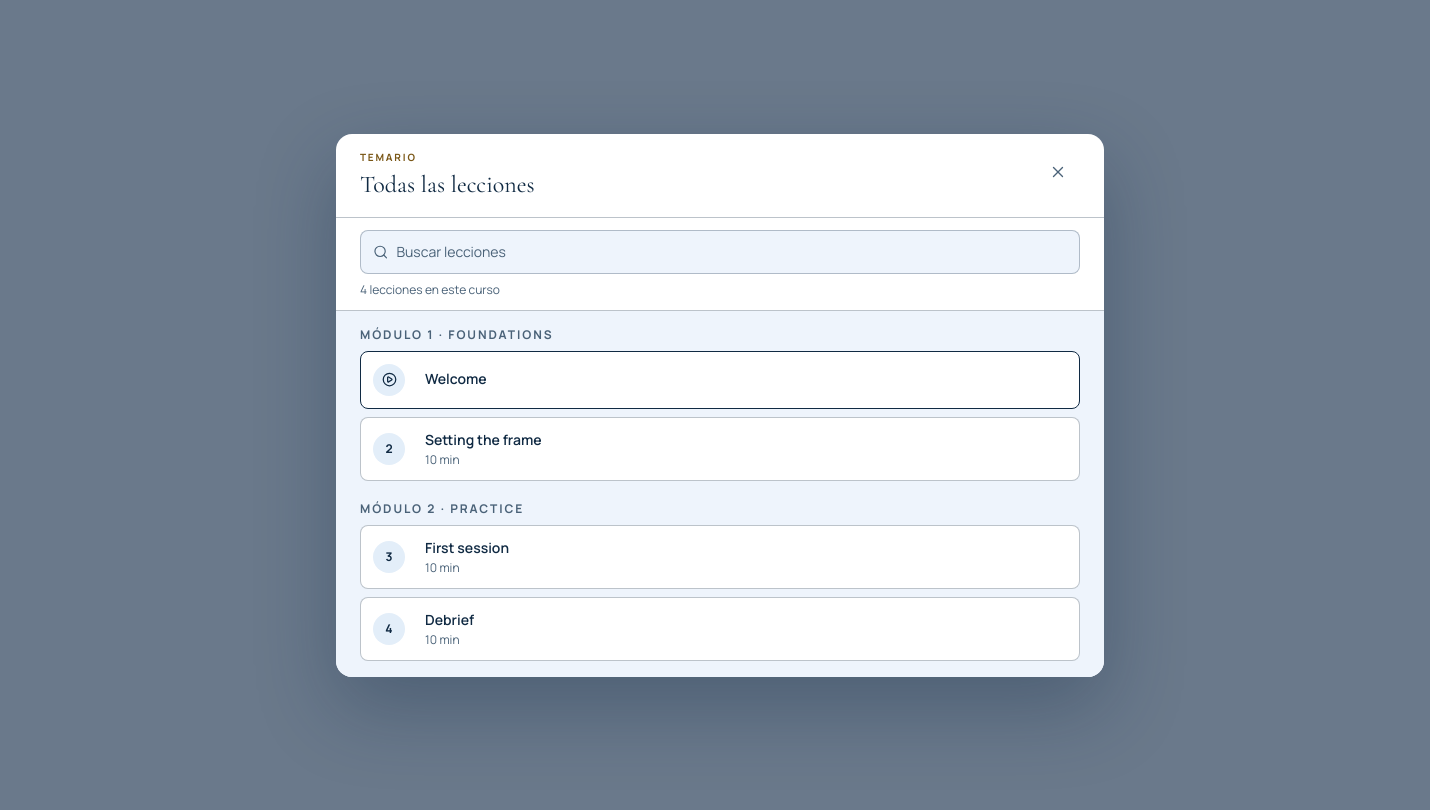
LessonListOverlay › uses Spanish plural and empty search copy
The image size is (1440, 810).
Expected: the text "4 lecciones en este curso" is shown, x1=360 y1=280 x2=500 y2=298
Step 1. Type "missing" into the search field → coordinates (732, 252), box x1=396 y1=242 x2=1067 y2=262
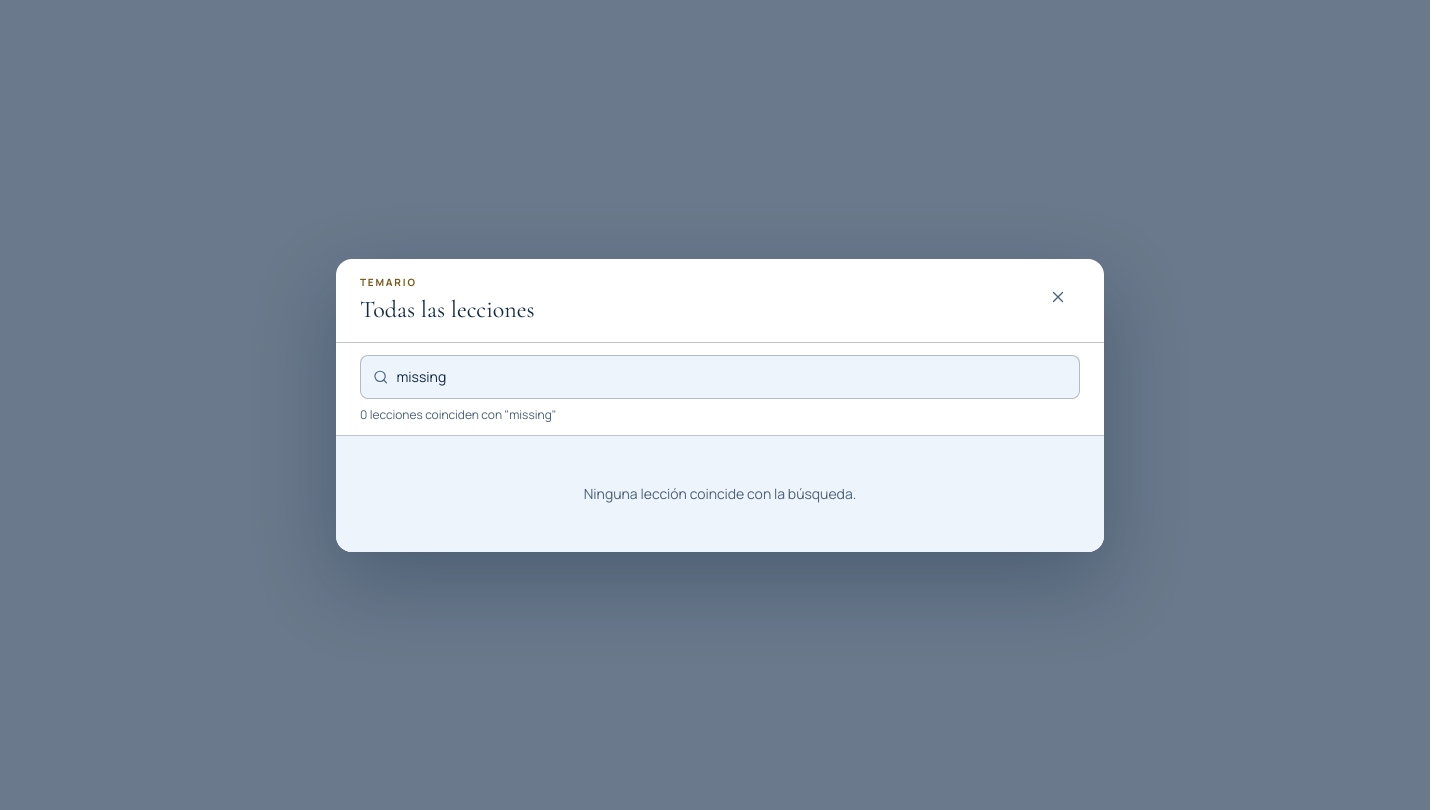
Now the text "0 lecciones coinciden con \"missing\"" is shown, box x1=360 y1=406 x2=556 y2=422
Now the text "Ninguna lección coincide con la búsqueda." is shown, box x1=584 y1=484 x2=856 y2=502
